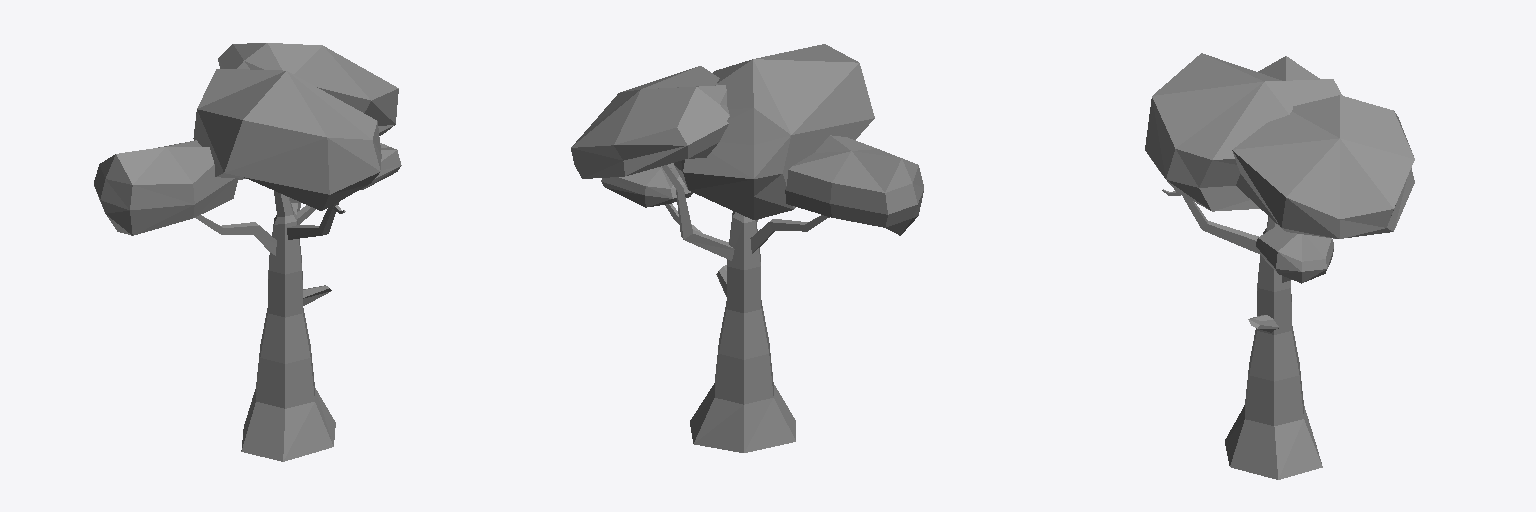
File: tree_01.obj
3 renders of one model, left to right at view 1: azimuth 30°, elevation 25°; view 2: azimuth 150°, elevation 25°; view 3: azimuth 270°, elevation 25°, orthographic.
Bounding box in the file's own units: 4.53 × 5.26 × 3.47.